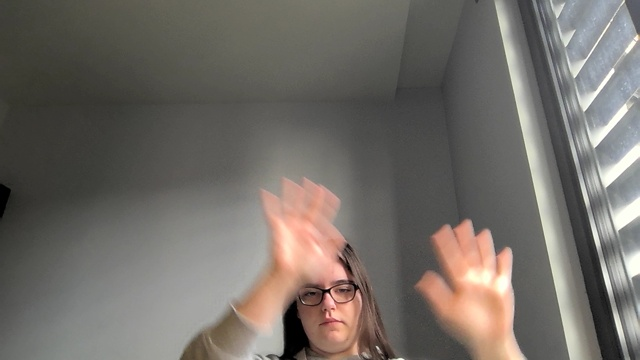hand: (418, 220, 513, 344), (260, 180, 346, 284)
